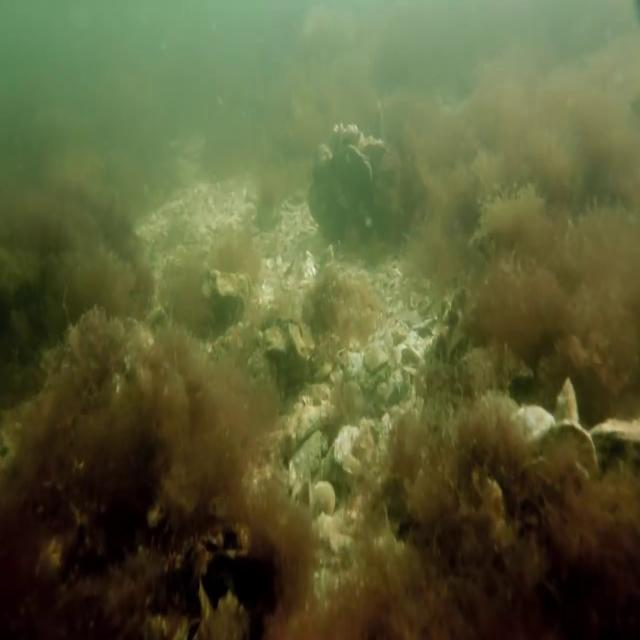Oyster-Closed: (589, 417, 638, 448)
Oyster-Indeterminate: (531, 421, 599, 473), (335, 145, 376, 203), (553, 370, 583, 428), (359, 132, 388, 167), (330, 116, 366, 142)
